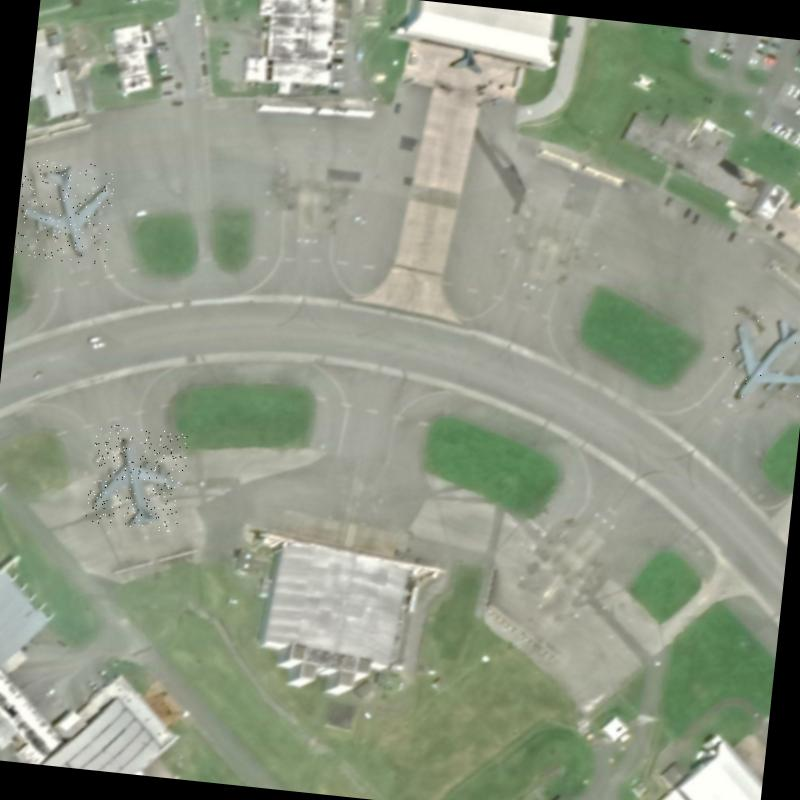A14: (85, 423, 190, 532), (14, 157, 117, 266), (715, 304, 800, 410)
